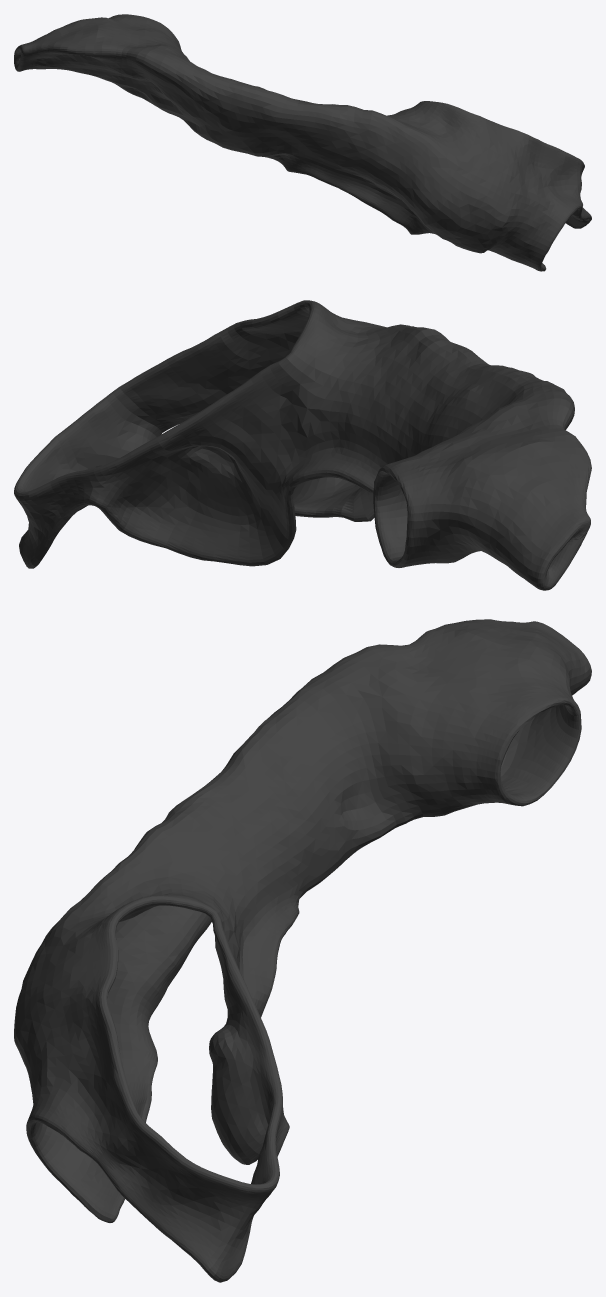
File: CANAL_facial_nerve_L.glb
3 renders of one model, top to bottom at view 1: azimuth 30°, elevation 25°; view 2: azimuth 150°, elevation 25°; view 3: azimuth 270°, elevation 25°, orthographic. The views are drawn at different scales.
Parts seen in each view (by area): view 1: CANAL_facial_nerve_L; view 2: CANAL_facial_nerve_L; view 3: CANAL_facial_nerve_L.
Boxes of the visible parts, left/top/right/bottom form: CANAL_facial_nerve_L: left=14, top=14, right=591, bottom=271; CANAL_facial_nerve_L: left=14, top=300, right=591, bottom=590; CANAL_facial_nerve_L: left=14, top=619, right=591, bottom=1282.
Bounding box in the file's own units: 3.04 × 1.47 × 2.17.
Materials: 1 (1 with a texture image).
